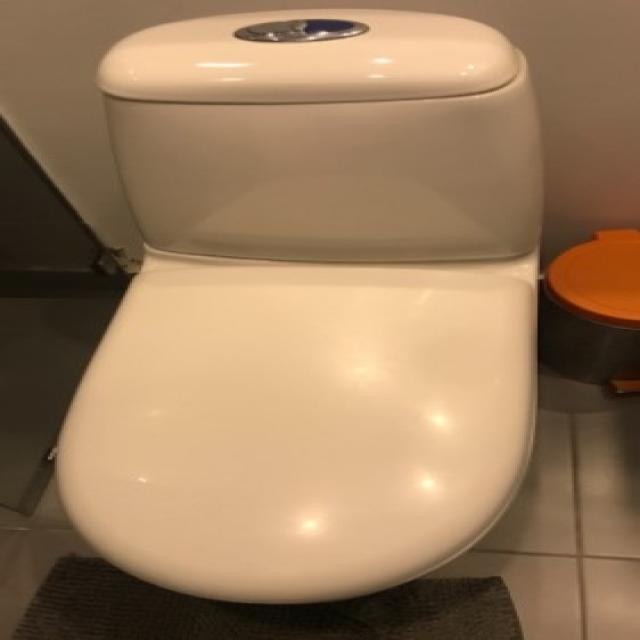toilet: (46, 11, 546, 611)
